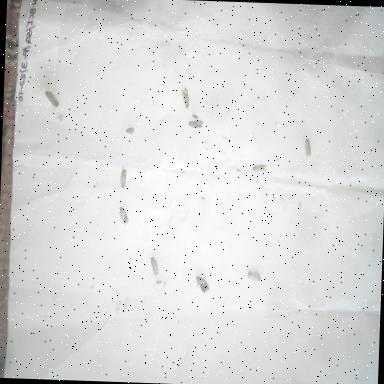pbw: (114, 200, 134, 229), (300, 134, 318, 166), (41, 86, 62, 112), (146, 254, 166, 280), (113, 166, 132, 192), (183, 114, 205, 136), (249, 159, 270, 181), (192, 270, 211, 294), (177, 82, 193, 110), (118, 164, 128, 189), (246, 268, 262, 282), (124, 124, 136, 136)
